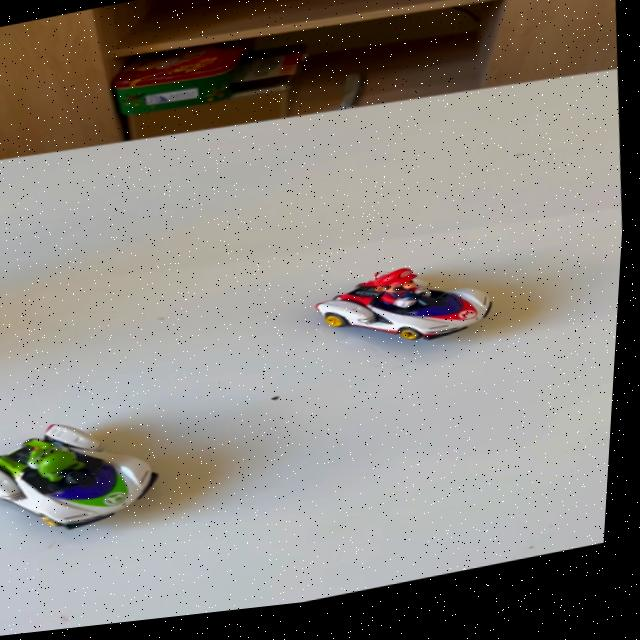mario: (282, 245, 525, 385)
yoshi: (0, 384, 207, 553)
